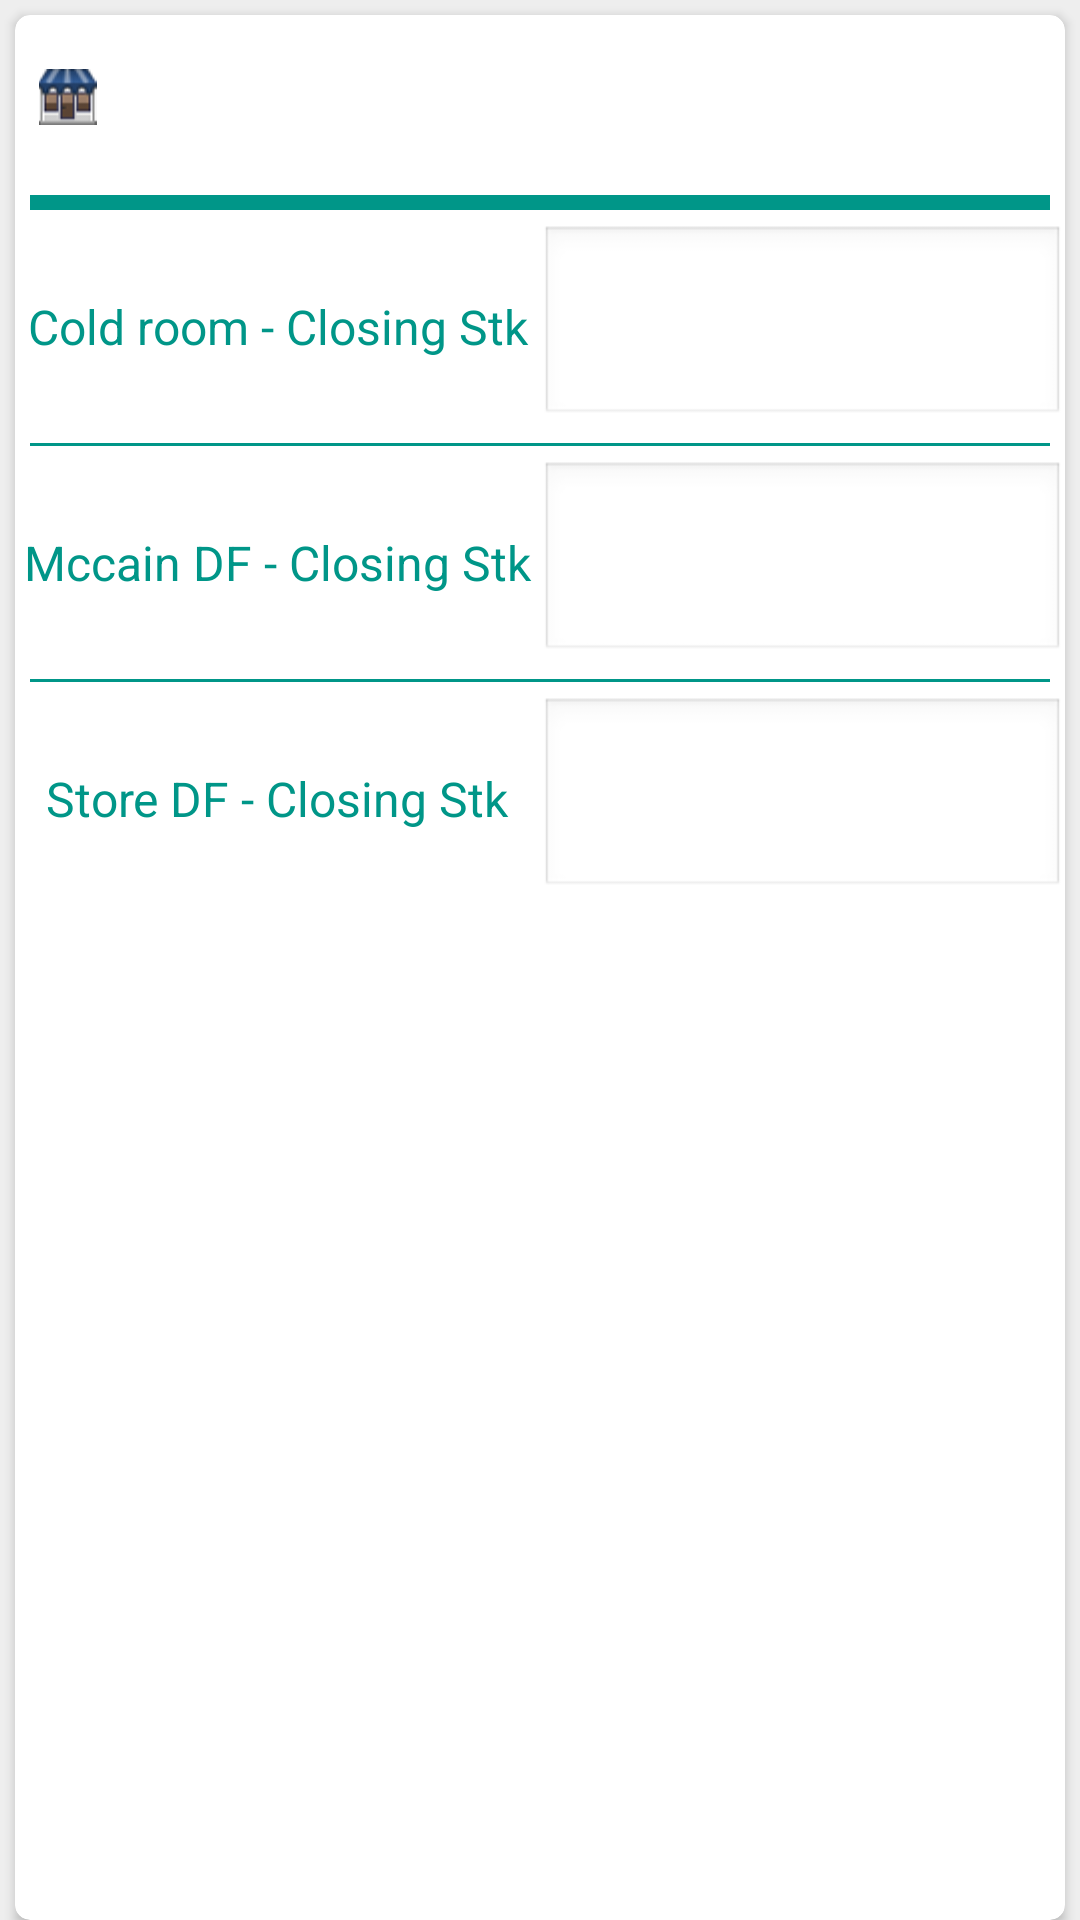

Icons on this 1080x1920 Android screen, each with the point to tap as (x=x, y=y):
store: (x=68, y=97)
